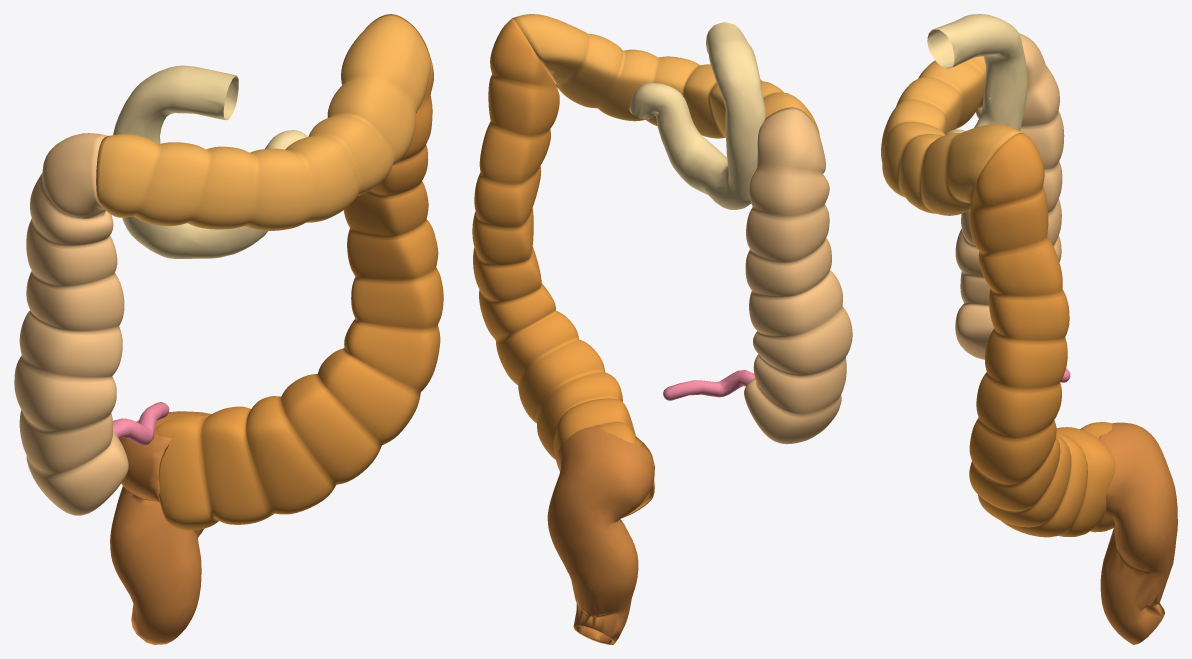
Rendered from gut.glb.
3 views of the same model, side by side, from view 1: azimuth 30°, elevation 25°; view 2: azimuth 150°, elevation 25°; view 3: azimuth 270°, elevation 25° (orthographic). The views are drawn at different scales.
Visible parts, largest first — view 1: Descending colon.001, Transverse colon.001, Ascending colon.001, Sigmoid colon.001, Duodenum.001, Vermiform appendix.001; view 2: Descending colon.001, Ascending colon.001, Sigmoid colon.001, Transverse colon.001, Duodenum.001, Vermiform appendix.001; view 3: Descending colon.001, Transverse colon.001, Sigmoid colon.001, Ascending colon.001, Duodenum.001.
Part boxes in pixels (x1,y1,x2,y2): Descending colon.001: (155, 17, 443, 530); Transverse colon.001: (96, 14, 430, 230); Ascending colon.001: (14, 133, 128, 515); Sigmoid colon.001: (110, 411, 211, 644); Duodenum.001: (113, 65, 308, 258); Vermiform appendix.001: (113, 402, 169, 445); Descending colon.001: (472, 18, 654, 518); Ascending colon.001: (744, 107, 852, 444); Sigmoid colon.001: (547, 425, 654, 644); Transverse colon.001: (512, 14, 819, 138); Duodenum.001: (629, 22, 765, 209); Vermiform appendix.001: (663, 370, 754, 400); Descending colon.001: (969, 133, 1115, 537); Transverse colon.001: (881, 56, 1022, 215); Sigmoid colon.001: (1099, 422, 1177, 644); Ascending colon.001: (955, 33, 1064, 359); Duodenum.001: (927, 14, 1027, 134).
Size of the model in its own units: 1.75 by 2.6 by 1.17.
